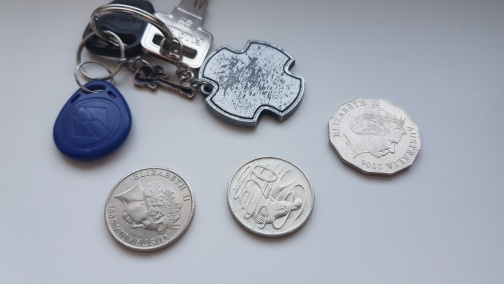coin: (103, 166, 196, 253), (328, 97, 422, 178), (226, 156, 316, 240)
